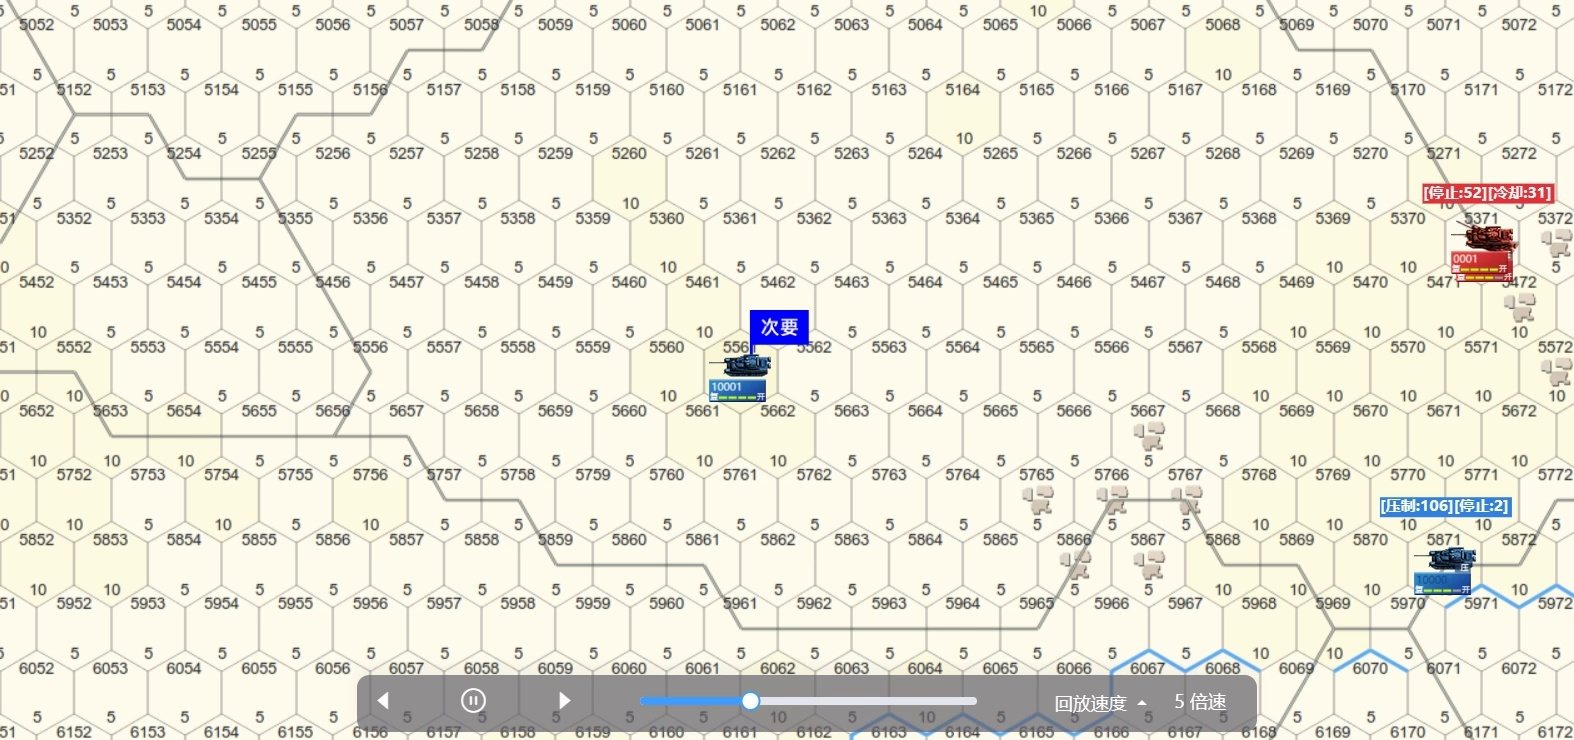blue_tank: (1408, 550, 1487, 615), (700, 364, 777, 401)
red_tank: (1459, 234, 1516, 282)
